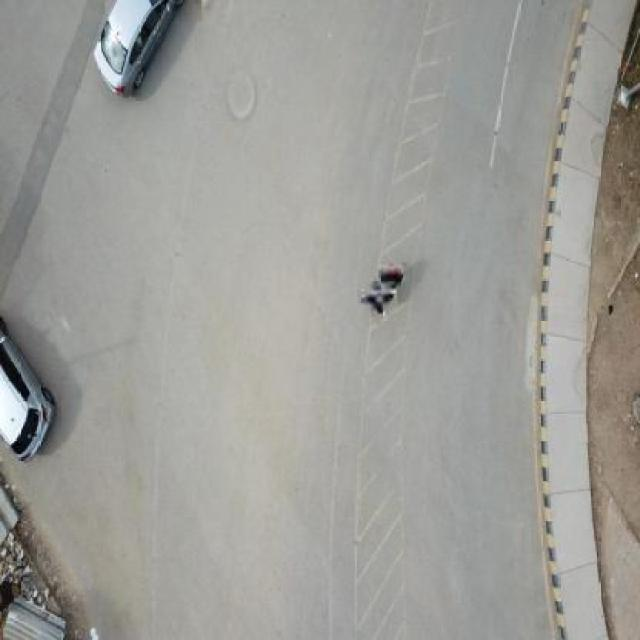Person: (365, 284, 392, 311), (380, 264, 403, 288)
